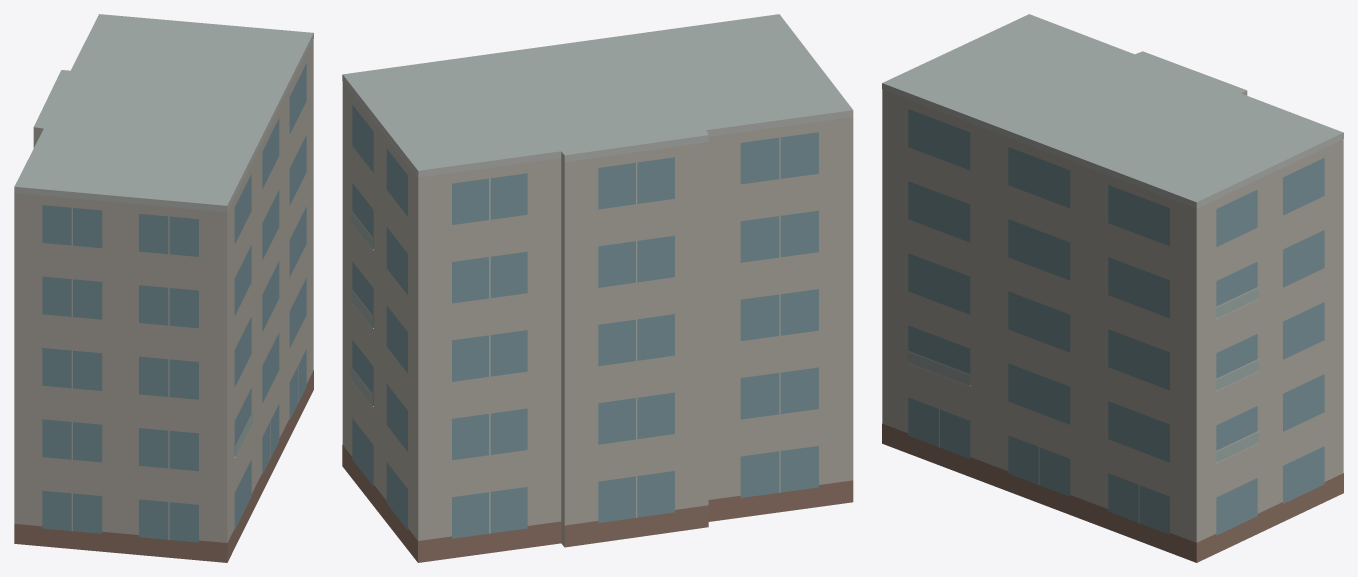
The model's file is survey-upis-32643240.glb.
3 renders of one model, left to right at view 1: azimuth 30°, elevation 25°; view 2: azimuth 150°, elevation 25°; view 3: azimuth 270°, elevation 25°, orthographic. The views are drawn at different scales.
Visible parts, largest first — view 1: survey-upis-32643240.tmp; view 2: survey-upis-32643240.tmp; view 3: survey-upis-32643240.tmp.
Part boxes in pixels (left/top/right/bottom): survey-upis-32643240.tmp: left=14, top=14, right=313, bottom=562; survey-upis-32643240.tmp: left=342, top=14, right=853, bottom=562; survey-upis-32643240.tmp: left=882, top=14, right=1343, bottom=562.
Bounding box in the file's own units: 15.58 × 13.9 × 16.14.
